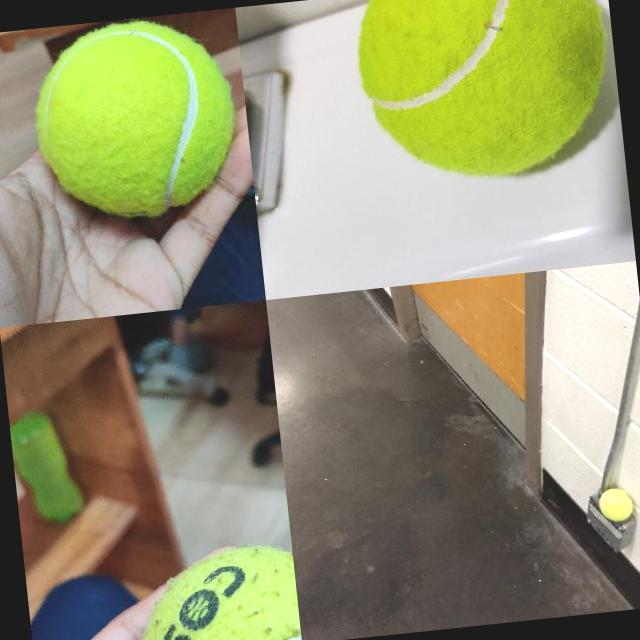Tennis Ball: (348, 0, 619, 190), (28, 12, 244, 225), (125, 539, 300, 640), (596, 486, 634, 522)
